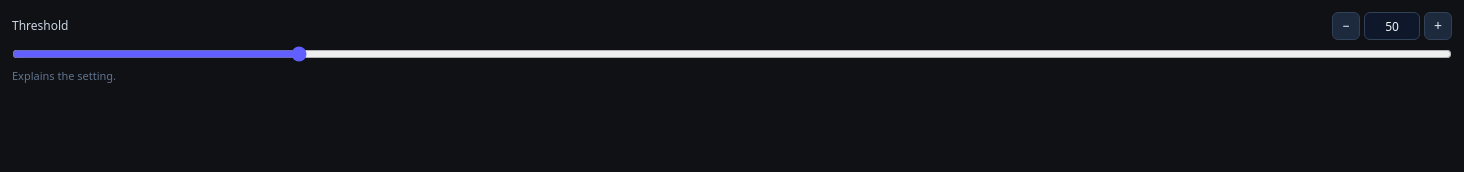
Test: NumberSliderField › lets the user type a multi-digit value without replacing partial input
Step 1. Click the field labelled "Threshold" → (1392, 26), box [1364,12,1420,40]
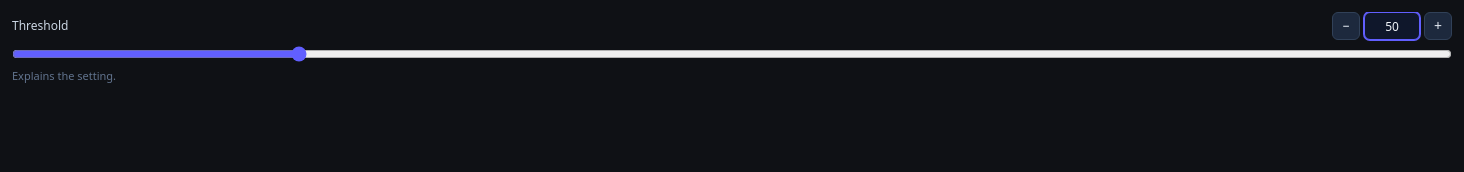
Step 2. Type keys "176"
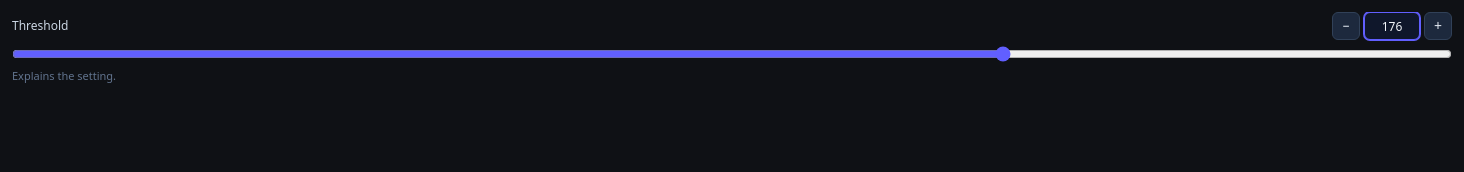
Check: the field labelled "Threshold" holds "176", box [1364,12,1420,40]
Check: the slider named "Threshold slider" holds "176", box [12,46,1452,62]
